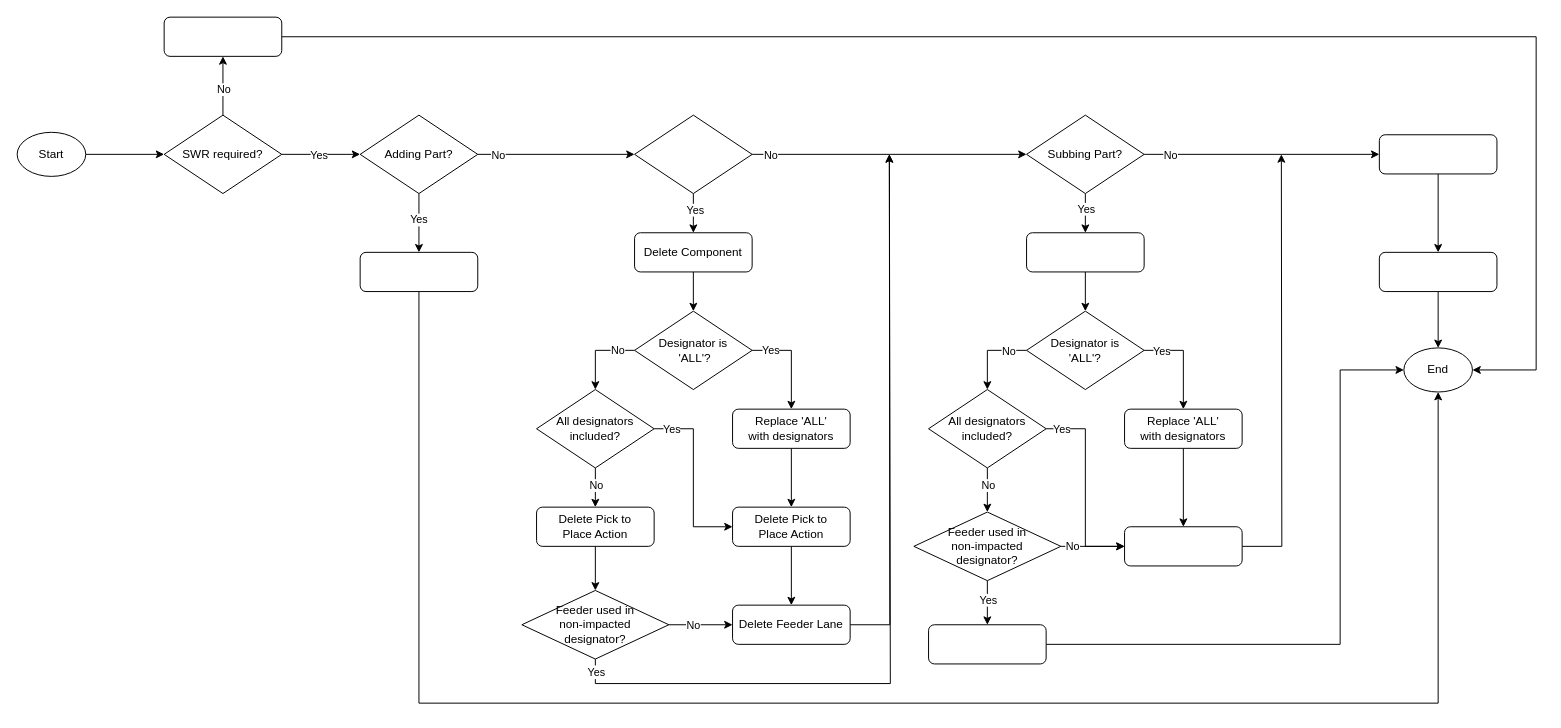
The diagram is 1561 pixels wide and 728 high, and some of its shapes have lost their labels. The centre of each missing label's shape, as x and y in pixels:
"Append CBID to Program Name" goes at (1437,154).
"Generate SWR Recipe" goes at (1437,271).
"Modify Component" goes at (1085,252).
"Modify Feeder Lane" goes at (1183,546).
"Raise warning and skip" goes at (987,644).
"Raise warning and skip." goes at (418,271).
"Removing Part?" goes at (693,154).
"Use BOM Recipe" goes at (222,36).
